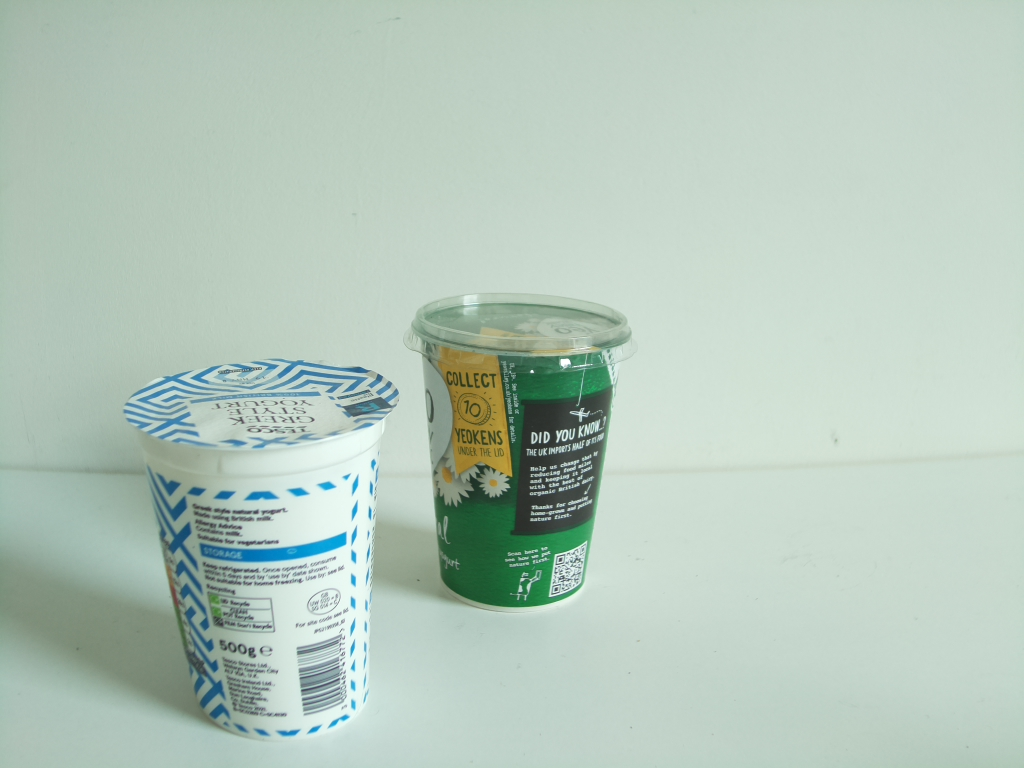yogurt: (119, 356, 408, 735), (403, 289, 636, 610)
